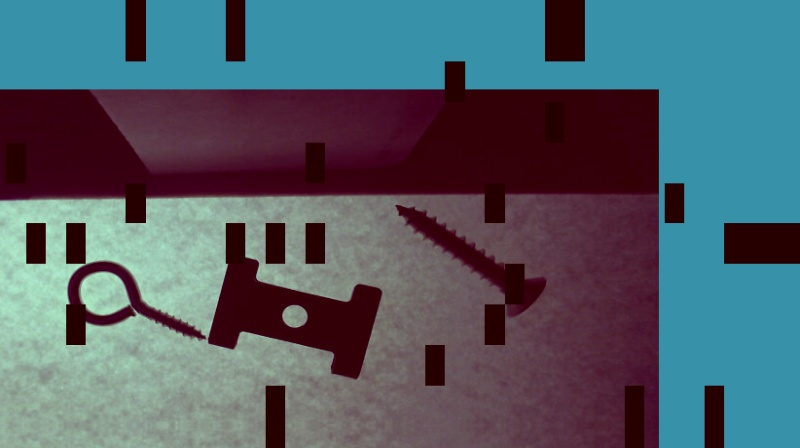O001: (64, 258, 207, 342)
O002: (205, 252, 381, 378)
S001: (392, 201, 545, 318)
